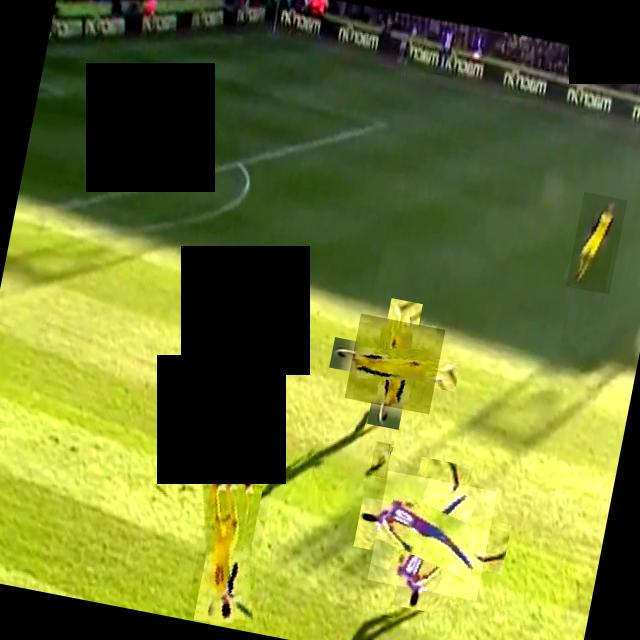ball: (370, 441, 392, 478)
soccer-player: (368, 471, 498, 601), (185, 474, 272, 632), (344, 314, 446, 414), (566, 192, 628, 295)
